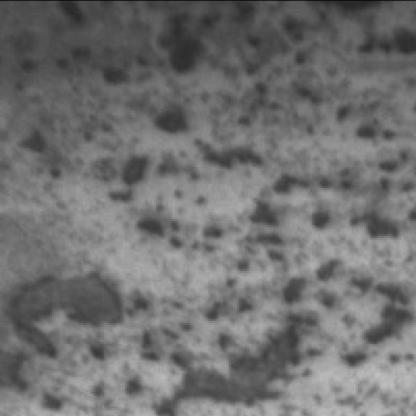patches: (156, 310, 329, 416), (7, 270, 135, 364)
pitted_surface: (131, 2, 416, 322), (21, 8, 196, 266)
